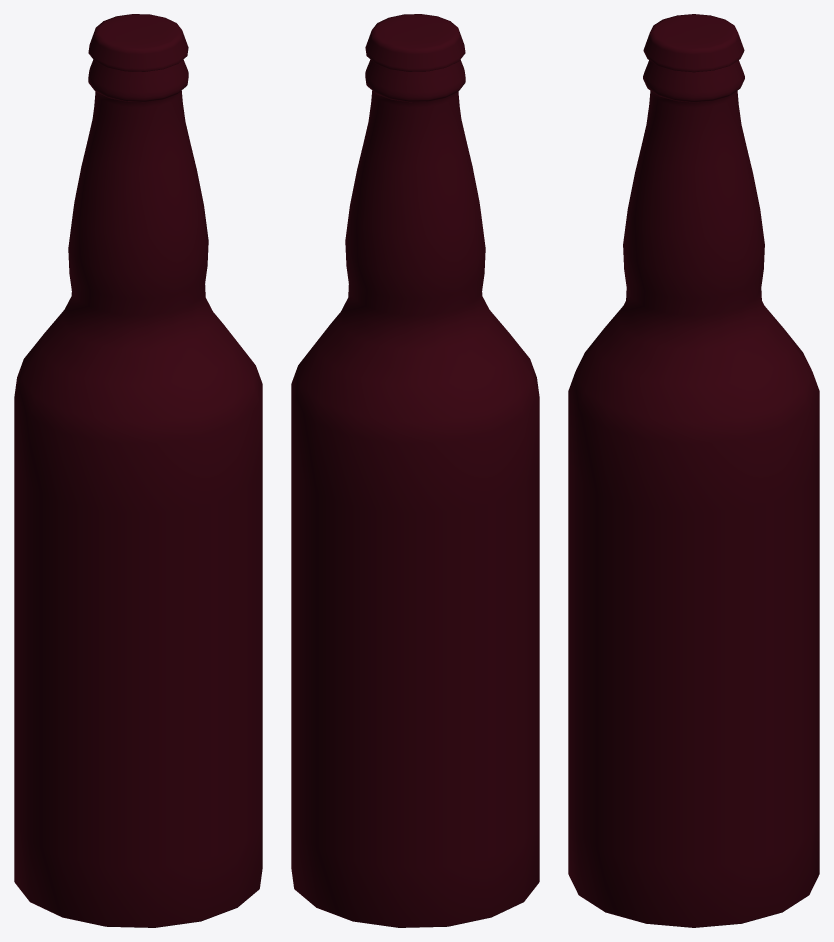
Rendered from beer.fbx.
3 views of the same model, side by side, from view 1: azimuth 30°, elevation 25°; view 2: azimuth 150°, elevation 25°; view 3: azimuth 270°, elevation 25° (orthographic).
Visible parts, largest first — view 1: 1; view 2: 1; view 3: 1.
Part boxes in pixels (bbox=[...]): 1: bbox=[14, 14, 262, 927]; 1: bbox=[291, 14, 539, 927]; 1: bbox=[568, 14, 819, 927].
Bounding box in the file's own units: 29.18 × 108 × 29.18.
